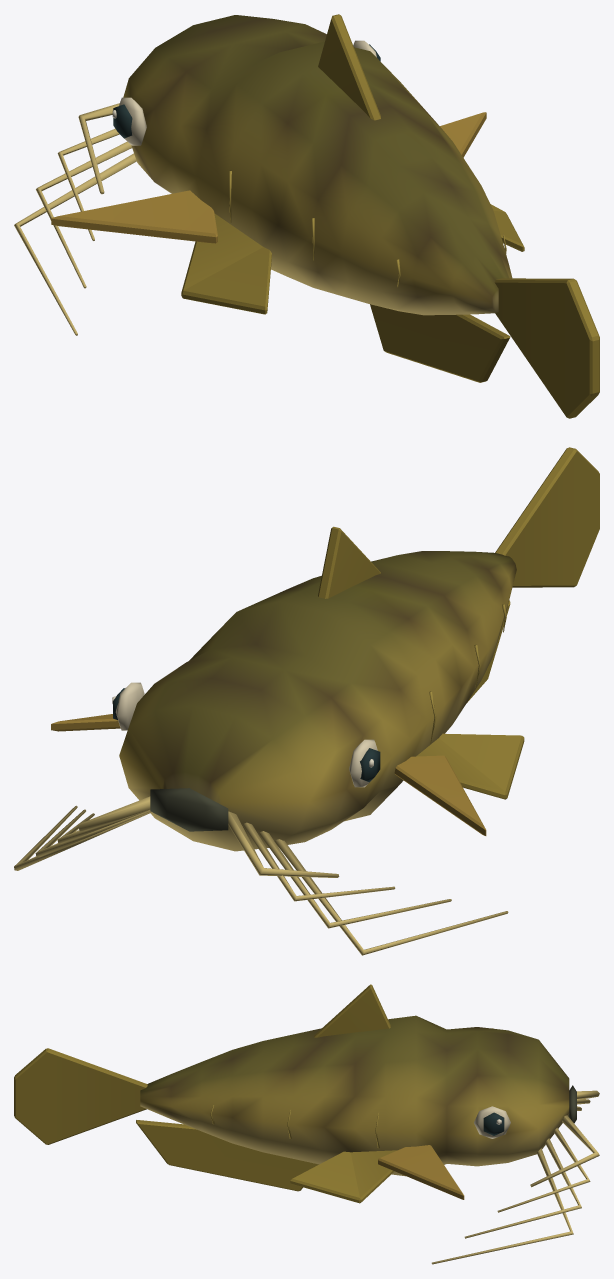
Rendered from fish_bagrid_catfish.glb.
3 views of the same model, one above another, from view 1: azimuth 30°, elevation 25°; view 2: azimuth 150°, elevation 25°; view 3: azimuth 270°, elevation 25° (orthographic). The views are drawn at different scales.
Bounding box in the file's own units: 0.1474 × 0.0973 × 0.25.
